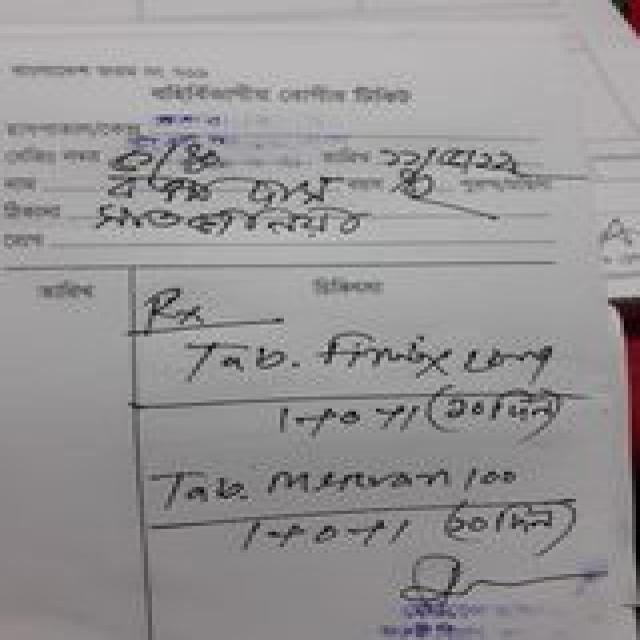Finix: (312, 324, 462, 387)
Merrvan: (241, 444, 468, 514)
